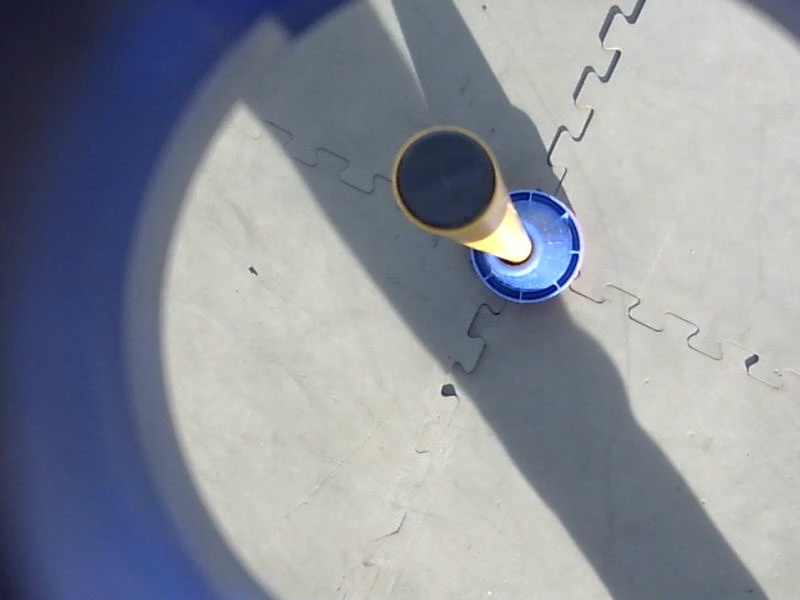tip: (387, 122, 504, 237)
